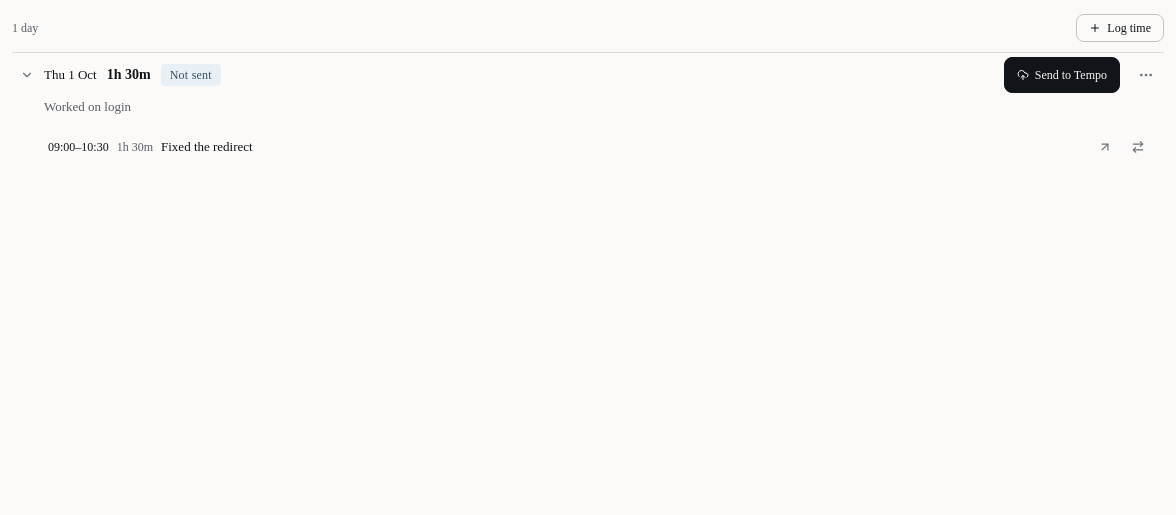
Test case: Esc and Cancel never destroy a draft › Esc with a typed description asks before discarding
Click the button "Log time": click(1120, 28) [1076,14,1164,42]
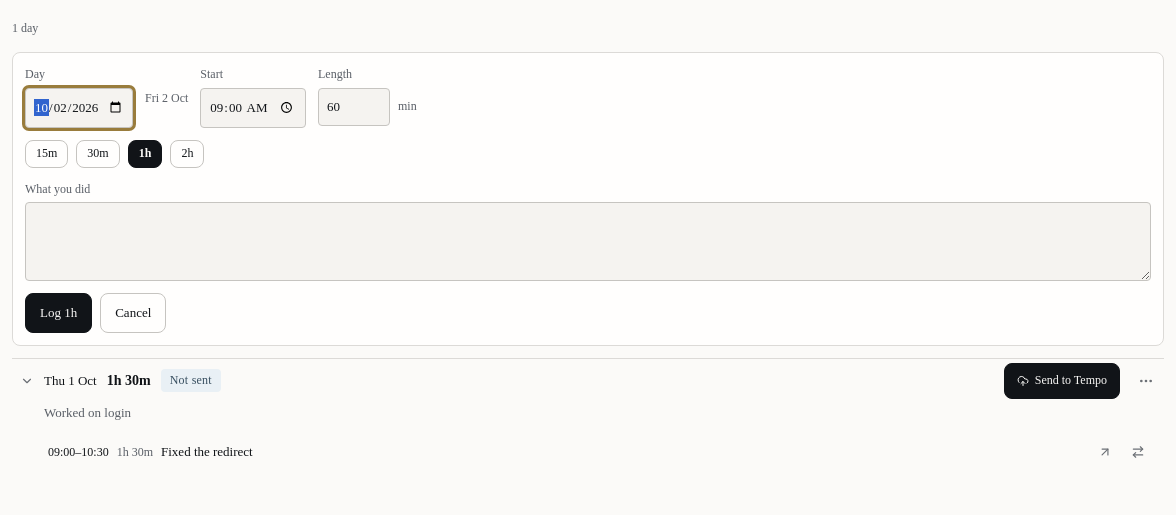
In the text box labelled "What you did": (588, 242) [25,202,1151,281], type "important notes"
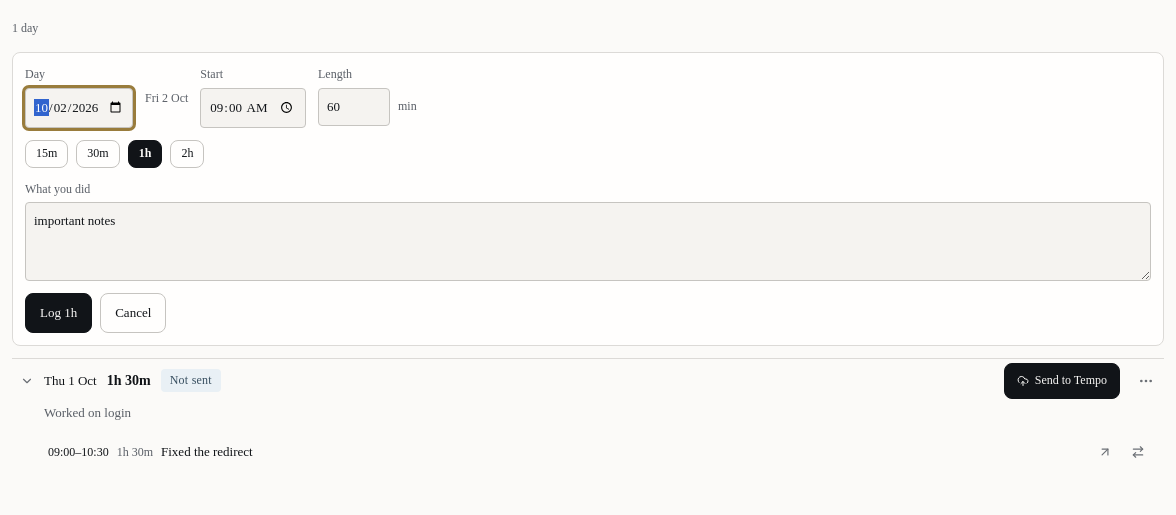
Press Escape in the text box labelled "What you did", box [25,202,1151,281]
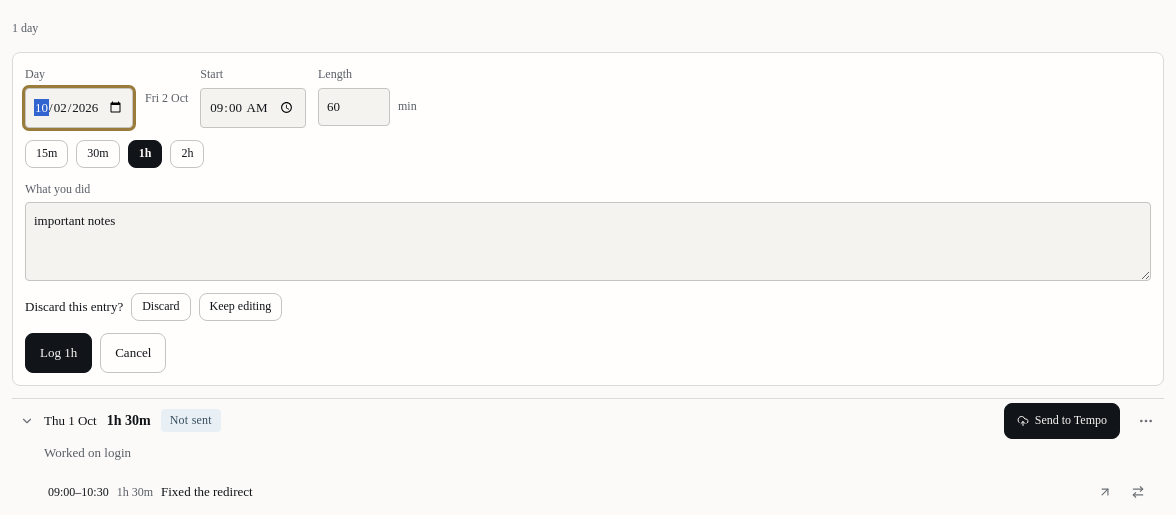
Now the text "Discard this entry? Discard Keep editing" is shown, box [25,293,282,321]
Click the button "Keep editing": click(240, 307) [198,293,282,321]
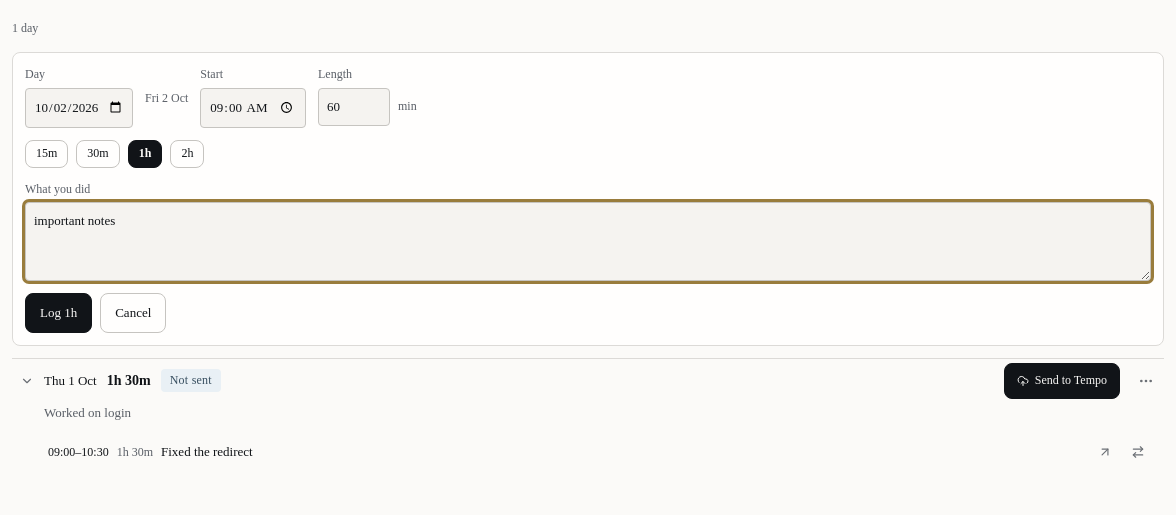
Now the text "Discard this entry?" is gone
Press Escape in the text box labelled "What you did", box [25,202,1151,281]
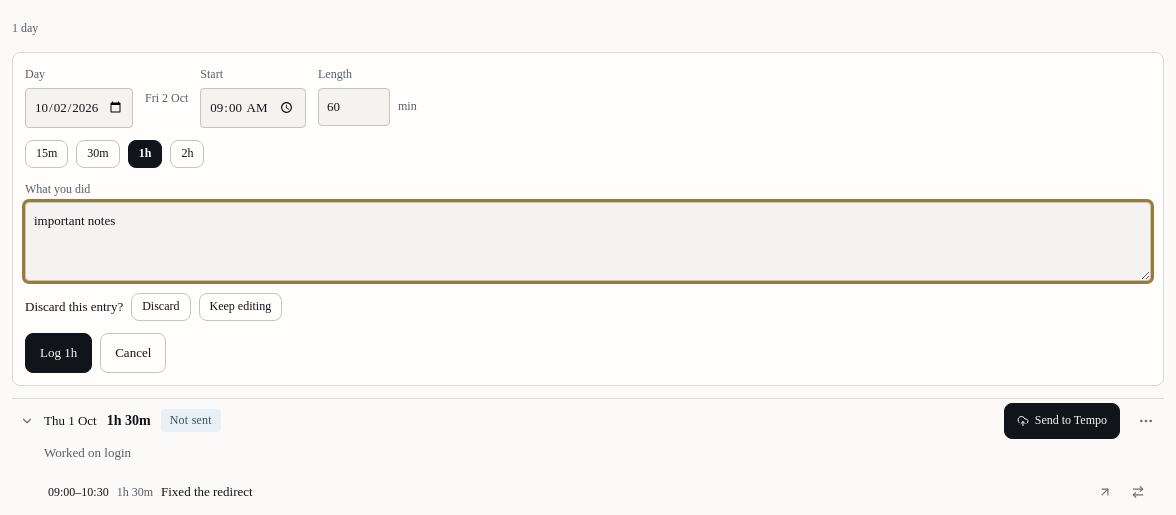
Click the button "Discard": click(161, 307) [131,293,190,321]
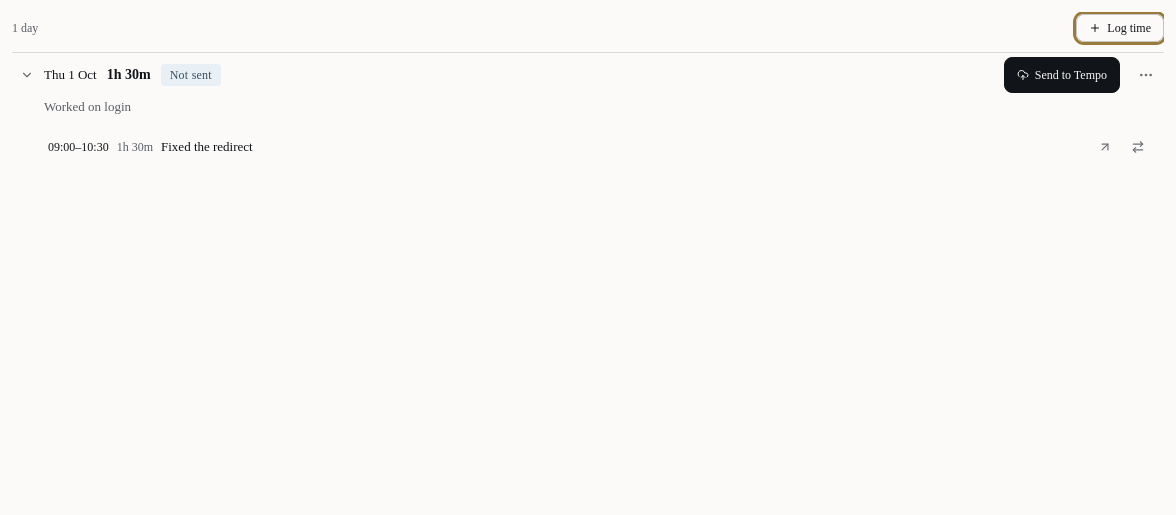
Now the label labelled "What you did" is gone
